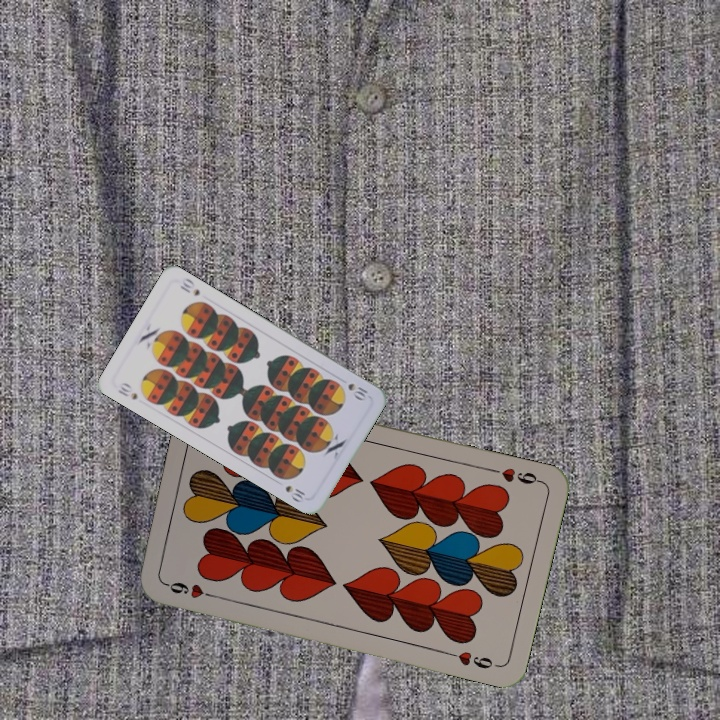H9: (486, 463, 544, 487), (160, 578, 219, 601)
S10: (113, 378, 140, 402), (344, 379, 370, 403)
